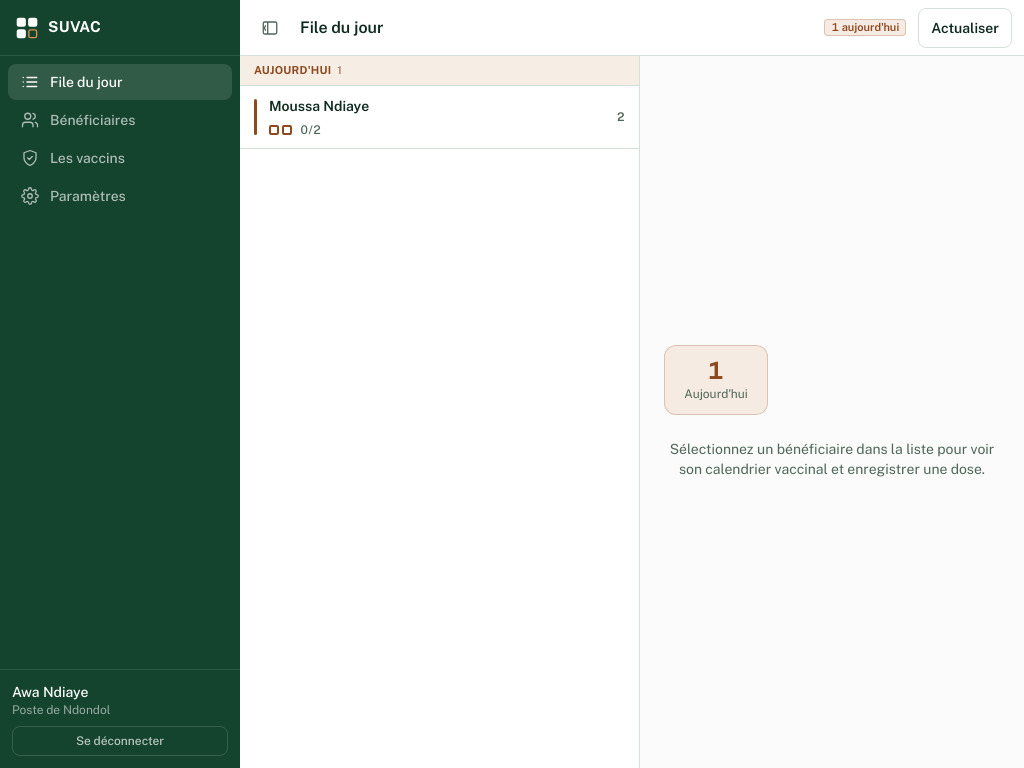
Scenario: FileDuJour › distingue les doses administrables de celles qui attendent
The width and height of the screenshot is (1024, 768).
Click the text "Moussa Ndiaye" at [319, 106], box left=269, top=96, right=369, bottom=116
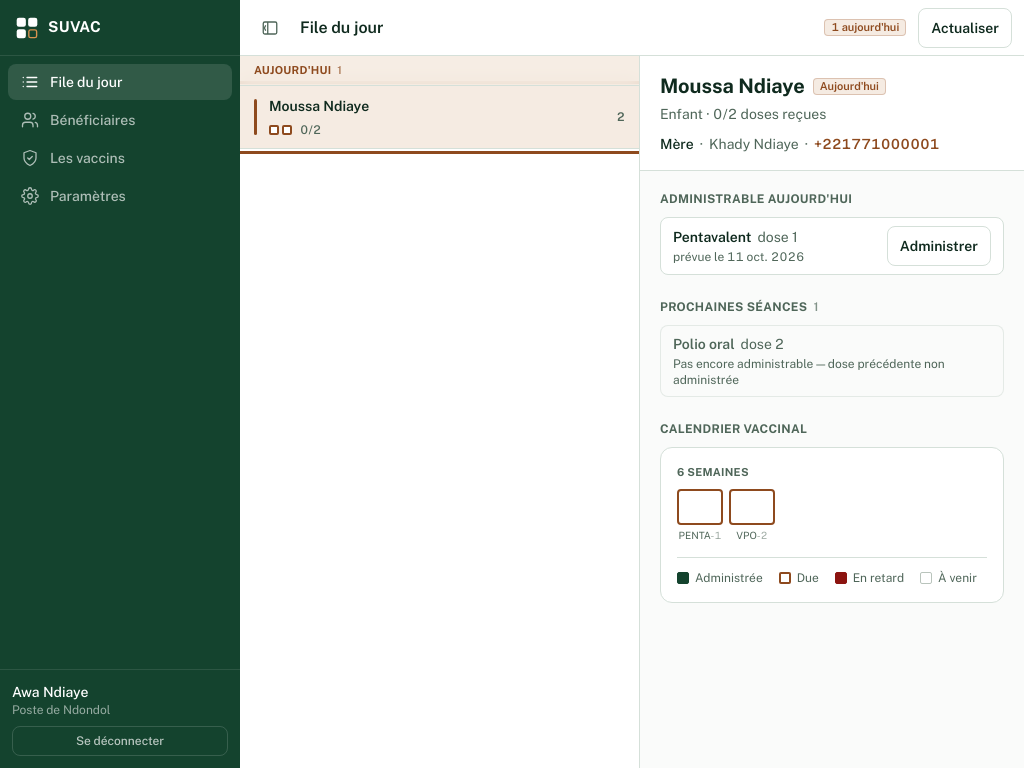
Now the heading "Prochaines séances1" is shown, box left=660, top=300, right=819, bottom=314
Now the text "Pas encore administrable — dose précédente non administrée" is shown, box left=673, top=356, right=991, bottom=388
